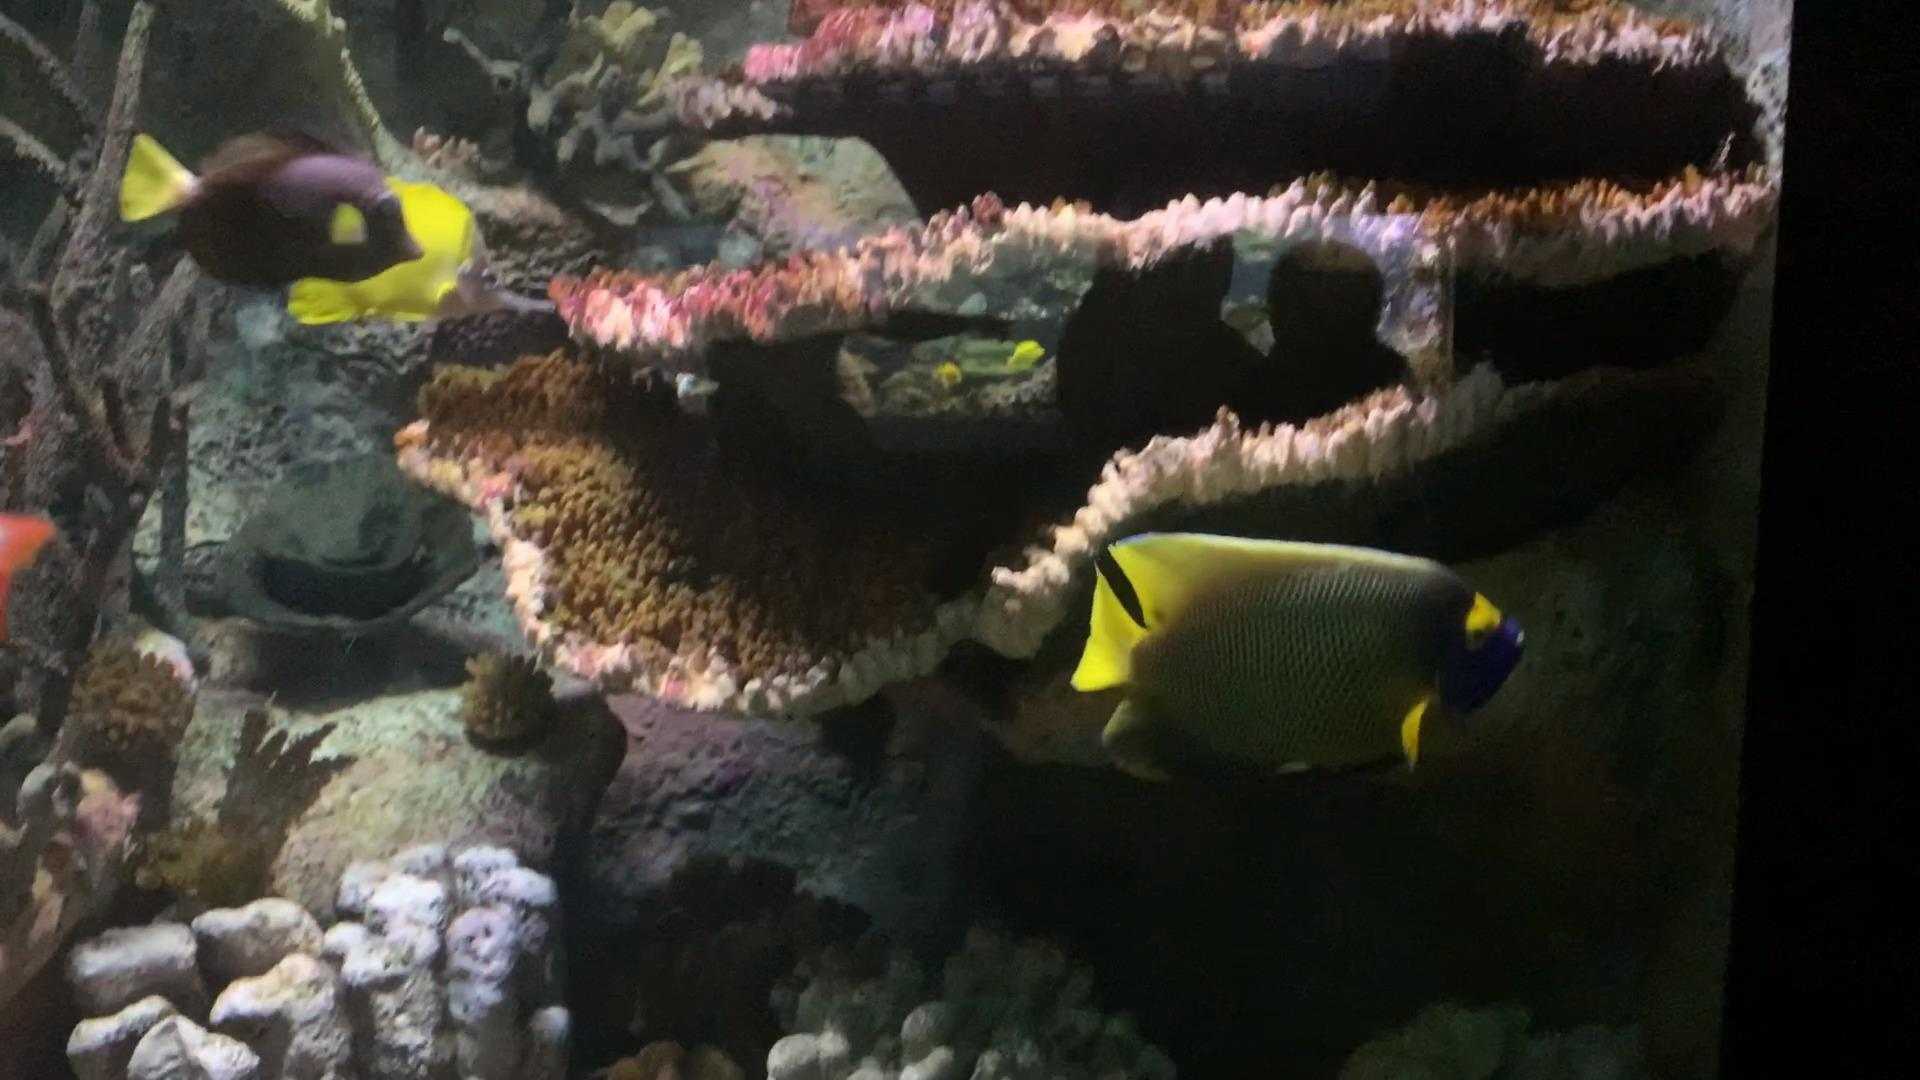fish: (1064, 524, 1538, 793), (115, 123, 472, 309), (286, 174, 512, 324), (1006, 338, 1046, 375), (934, 360, 964, 390)
